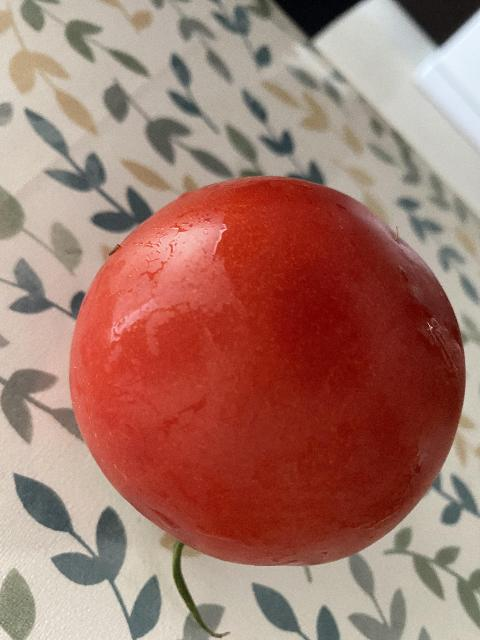Organik: (70, 176, 462, 575)
